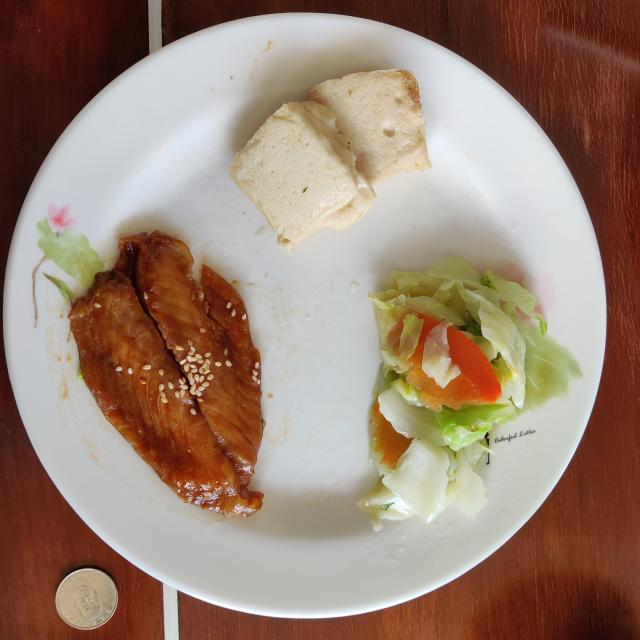Kabayaki sea bream fillet: (69, 231, 264, 516)
cabbage: (359, 256, 535, 529)
coin: (55, 569, 118, 630)
creamy tofu -without sauce-: (230, 69, 431, 251)
